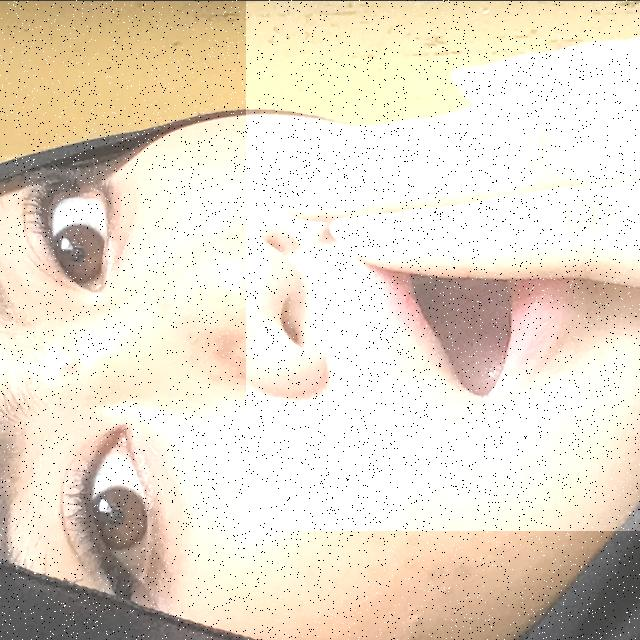ngantuk: (246, 0, 640, 530)
